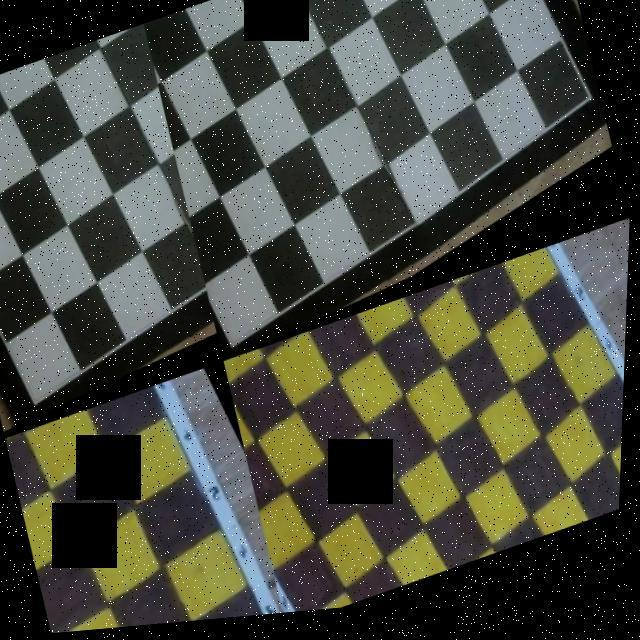chess-table-corners: (12, 454, 21, 471), (28, 402, 38, 414), (586, 116, 594, 128), (226, 351, 233, 362), (144, 24, 148, 30)
